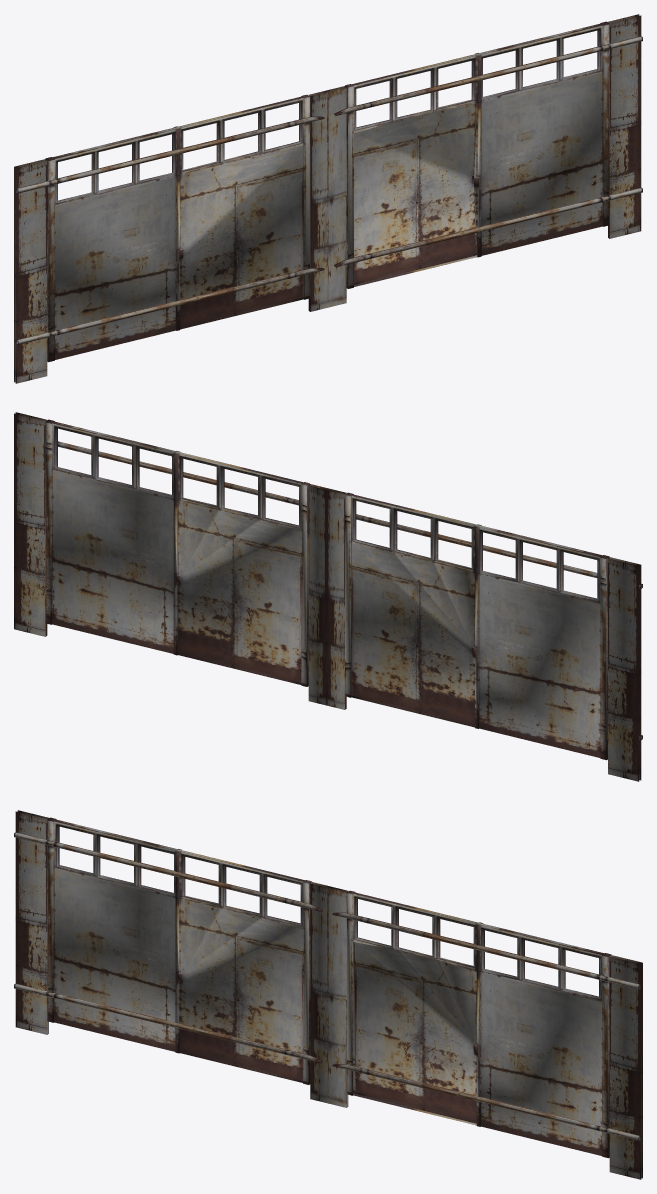
The model's file is door_mtl_1.obj.
3 views of the same model, one above another, from view 1: azimuth 30°, elevation 25°; view 2: azimuth 150°, elevation 25°; view 3: azimuth 330°, elevation 25° (orthographic).
Parts seen in each view (by area): view 1: 0; view 2: 0; view 3: 0.
Boxes of the visible parts, <box> form: 0: <box>14,14,642,383</box>; 0: <box>14,412,642,781</box>; 0: <box>14,810,642,1179</box>.
Size of the model in its own units: 12.22 by 4.03 by 0.157.
